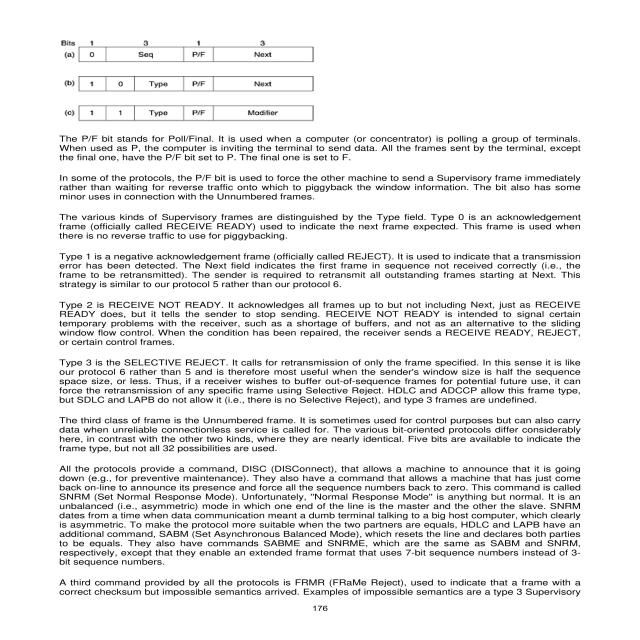diagram: (29, 28, 358, 128)
